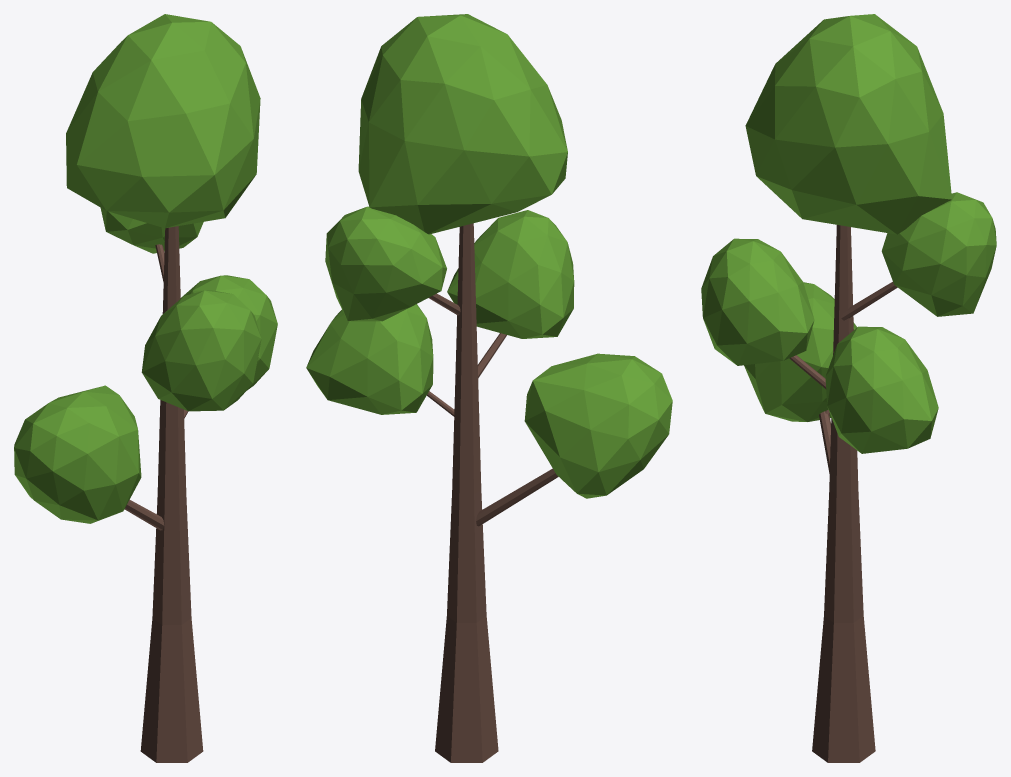
Rendered from SpringTree_04.fbx.
3 views of the same model, side by side, from view 1: azimuth 30°, elevation 25°; view 2: azimuth 150°, elevation 25°; view 3: azimuth 270°, elevation 25° (orthographic).
Visible parts, largest first — view 1: SpringTree_04; view 2: SpringTree_04; view 3: SpringTree_04.
Part boxes in pixels (x1,y1,x2,y2): SpringTree_04: [14, 14, 277, 762]; SpringTree_04: [306, 14, 672, 762]; SpringTree_04: [701, 14, 996, 762].
Size of the model in its own units: 462 by 1086 by 395.
